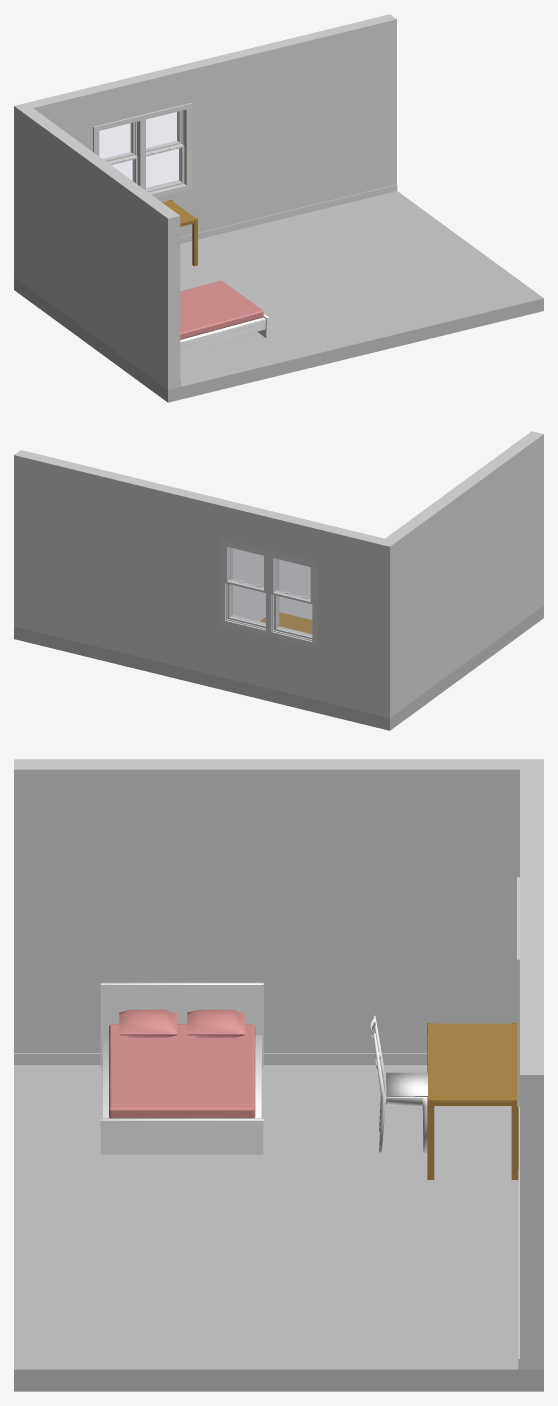
Rendered from L14_W20_furniture2_daylight3.glb.
3 renders of one model, top to bottom at view 1: azimuth 30°, elevation 25°; view 2: azimuth 150°, elevation 25°; view 3: azimuth 270°, elevation 25°, orthographic. The views are drawn at different scales.
Bounding box in the file's own units: 248 × 116 × 176.
